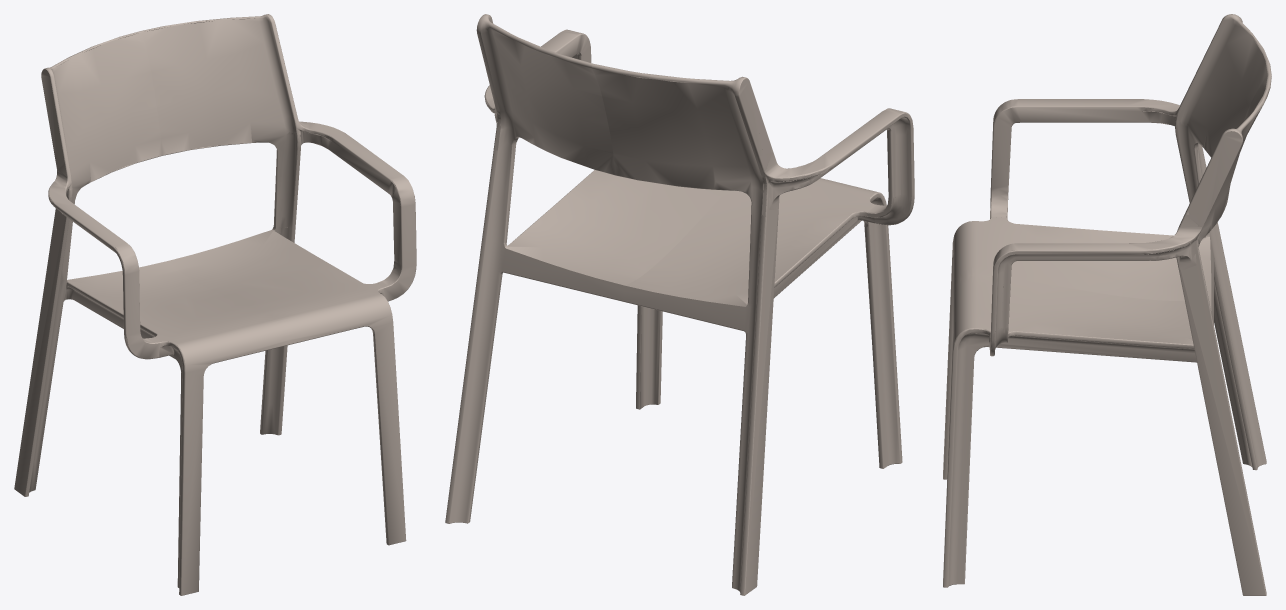
File: toriu_browngrey.fbx
3 views of the same model, side by side, from view 1: azimuth 30°, elevation 25°; view 2: azimuth 150°, elevation 25°; view 3: azimuth 270°, elevation 25° (orthographic). The views are drawn at different scales.
Parts seen in each view (by area): view 1: toriru-taupe; view 2: toriru-taupe; view 3: toriru-taupe.
Part boxes in pixels (<box>): toriru-taupe: <box>14,14,416,595</box>; toriru-taupe: <box>445,14,914,595</box>; toriru-taupe: <box>943,14,1271,595</box>.
Bounding box in the file's own units: 58.5 × 82.1 × 53.5.
